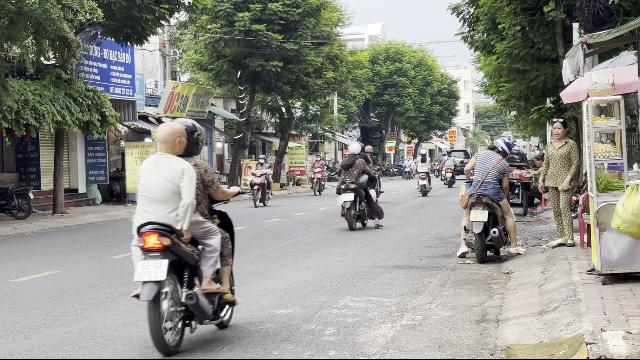helmet: (172, 118, 206, 159), (488, 138, 510, 158)
licenseplate: (134, 259, 168, 281), (469, 210, 488, 221)
motorcyclist: (125, 116, 243, 352), (455, 131, 521, 263)
nohelmet: (153, 122, 187, 156)
